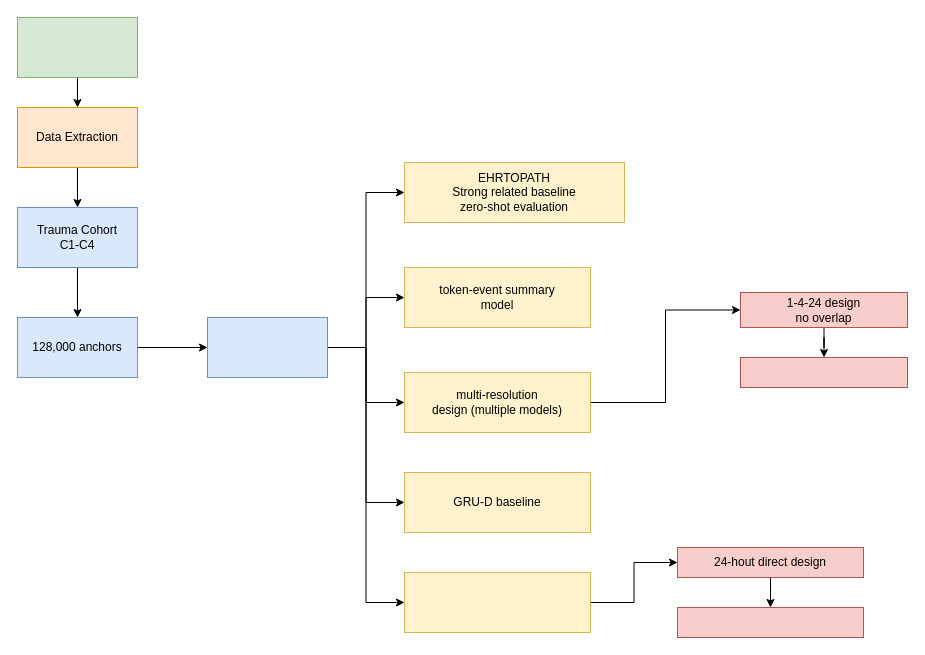
This 925x655 diagram has some shape labels left out. The shapes that lost their labels are listed below. From the top down, each one's centre as x and y in pixels, then its label:
At point (77, 47): "MIMICIV v2.2".
At point (267, 347): "2,000 anchors for evaluation".
At point (824, 372): "day-pharse design".
At point (497, 602): "LLM structured text report design".
At point (770, 622): "TTE-aligned design".
